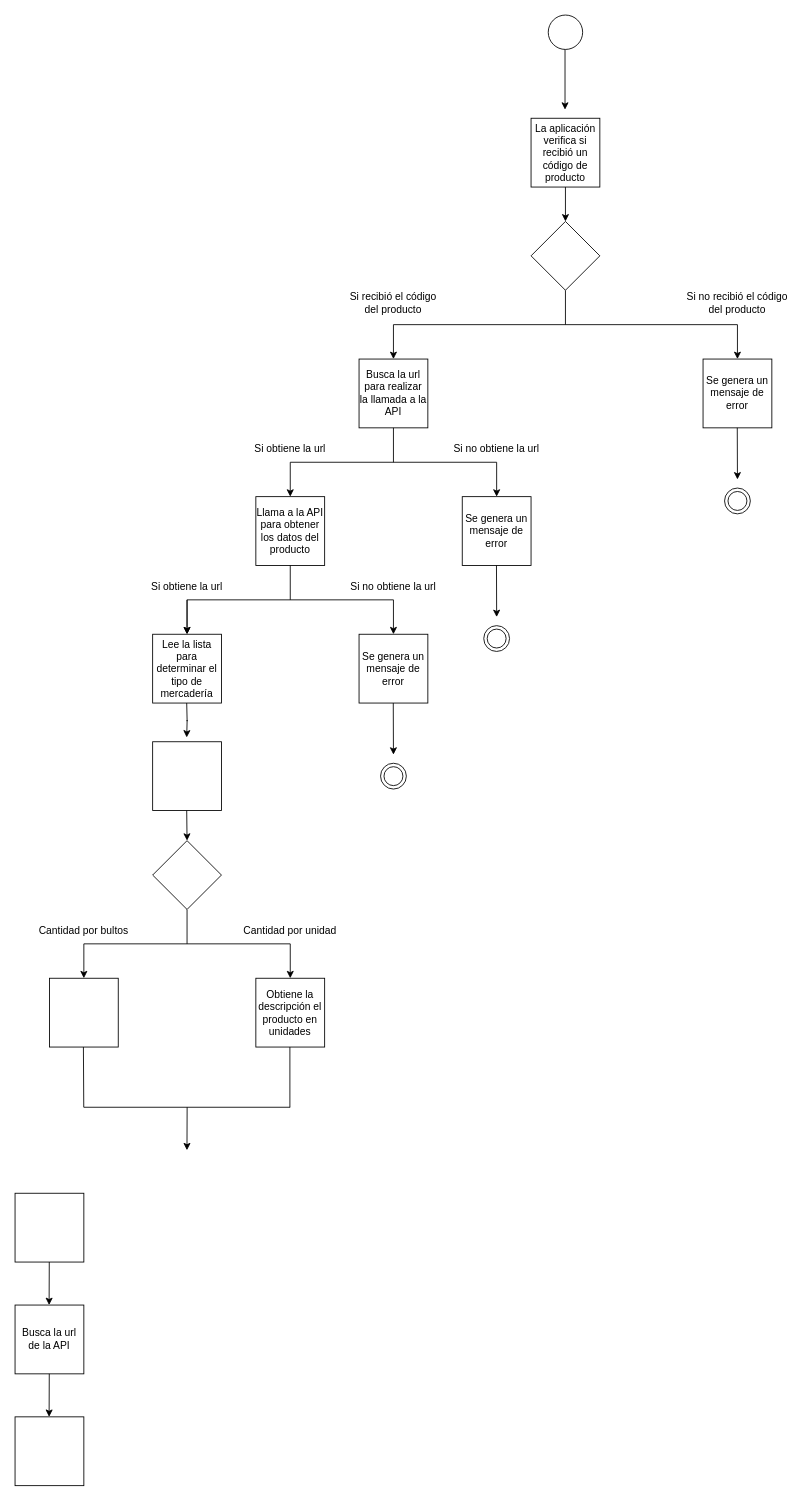
Image size: 804x1501. Some labels were removed from this diagram. The centre of each missing label's shape, as x and y in pixels:
"Compara el tipo de mercadería y la descripción del producto" belongs at (186,776).
"Obtiene la configuracion del producto de Physis" belongs at (49,1451).
"Obtiene la descripción el producto en bultos" belongs at (83,1012).
"Se conecta a la BD de physis" belongs at (49,1227).
